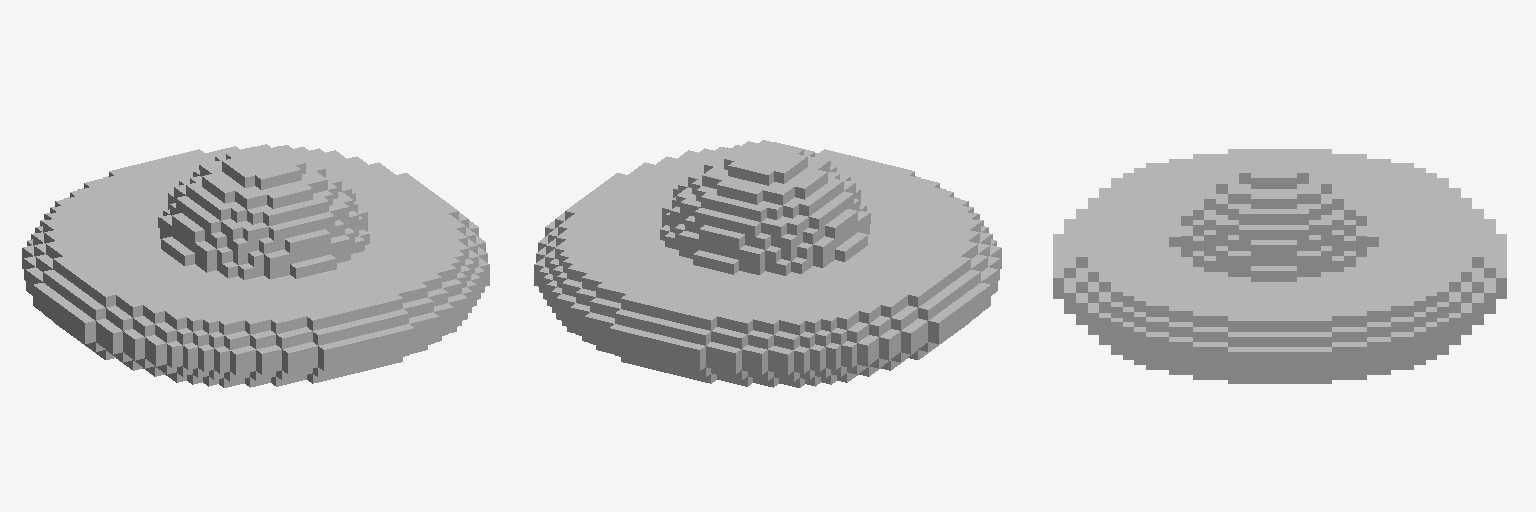
Rendered from UFO.obj.
3 renders of one model, left to right at view 1: azimuth 30°, elevation 25°; view 2: azimuth 150°, elevation 25°; view 3: azimuth 270°, elevation 25°, orthographic.
Visible parts, largest first — view 1: object 1; view 2: object 1; view 3: object 1.
Part boxes in pixels (left/top/right/bottom): object 1: left=22, top=144, right=489, bottom=387; object 1: left=534, top=140, right=1001, bottom=387; object 1: left=1053, top=149, right=1506, bottom=383.
Bounding box in the file's own units: 3.9 × 1.8 × 3.9.